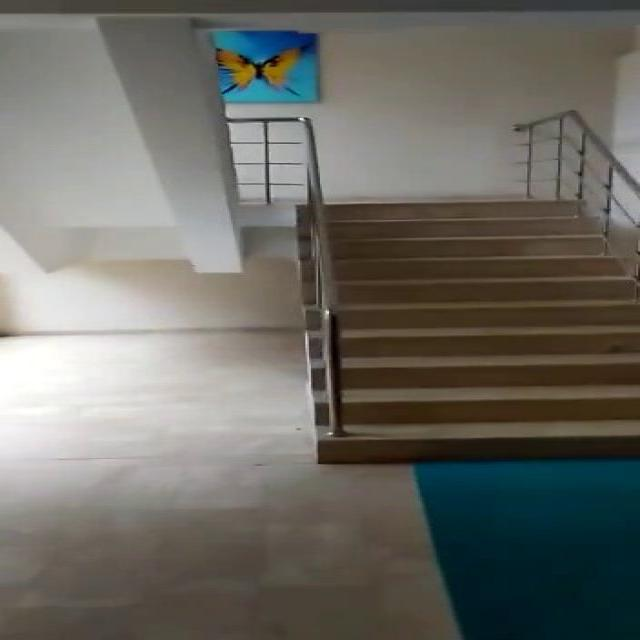stair: (301, 196, 640, 460)
